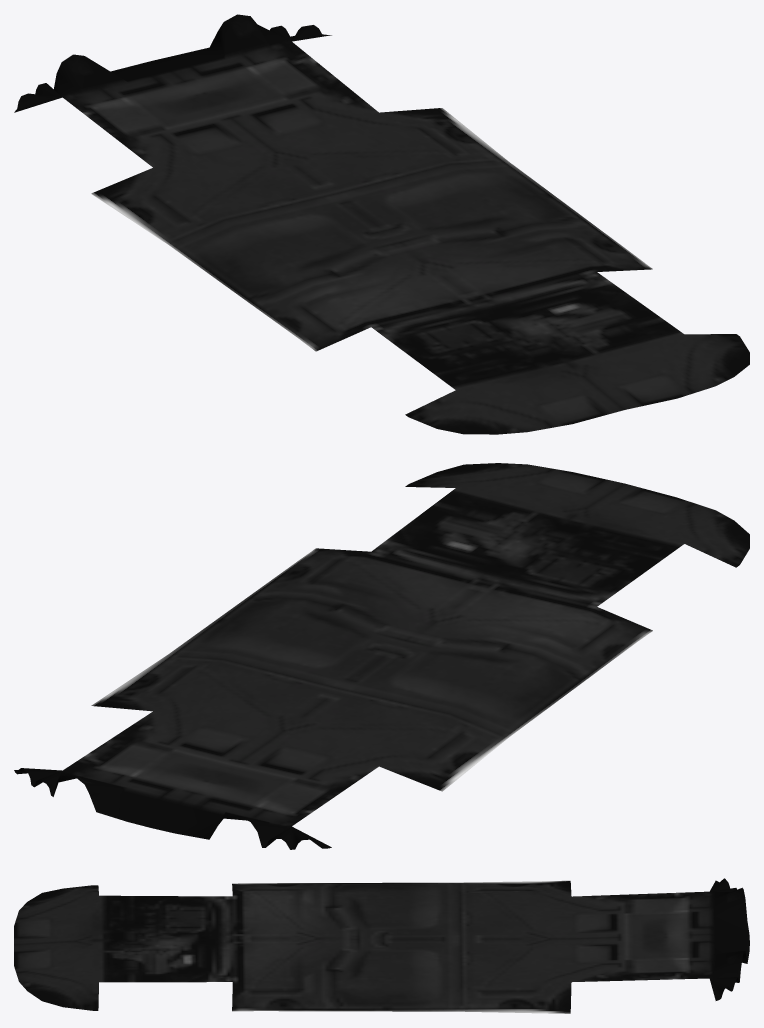
The model's file is 2Alt.fbx.
3 renders of one model, top to bottom at view 1: azimuth 30°, elevation 25°; view 2: azimuth 150°, elevation 25°; view 3: azimuth 270°, elevation 25°, orthographic. The views are drawn at different scales.
Parts seen in each view (by area): view 1: Object001; view 2: Object001; view 3: Object001.
Part boxes in pixels (x1=…): Object001: x1=14, y1=14, x2=749, y2=434; Object001: x1=14, y1=463, x2=749, y2=849; Object001: x1=14, y1=878, x2=749, y2=1013.
Size of the model in its own units: 1758 by 171 by 4106.
